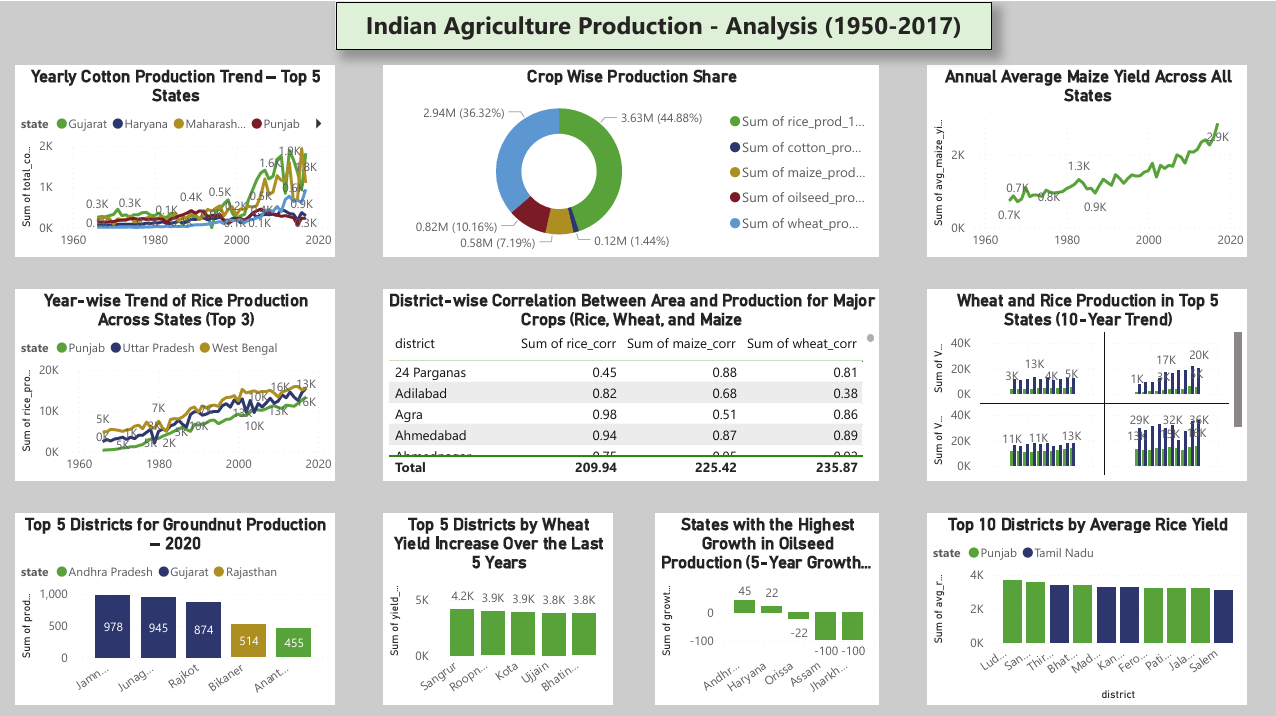

Layout of this report page (visuals, bound fields, positions):
{"tool":"powerbi","page":{"name":"Indian Agriculture Production - Analysis (1950-2017)","canvas":[1280,720],"ordinal":2},"visuals":[{"type":"lineChart","title":"Year-wise Trend of Rice Production Across States (Top 3)","fields":{"Category":["crop_production.year"],"Y":["Sum(crop_production.rice_prod_1000t)"],"Series":["crop_production.state"]},"box":[16,288,320,192],"z":0},{"type":"clusteredColumnChart","title":"Top 5 Districts by Wheat Yield Increase Over the Last 5 Years","fields":{"Category":["Query1.district"],"Y":["Sum(Query1.yield_increase)"]},"box":[384,512,230,192],"z":1000},{"type":"clusteredColumnChart","title":"States with the Highest Growth in Oilseed Production (5-Year Growth Rate)","fields":{"Category":["Query2.state"],"Y":["Sum(Query2.growth_percent)"]},"box":[656,512,224,192],"z":2000},{"type":"tableEx","title":"District-wise Correlation Between Area and Production for Major Crops (Rice, Wheat, and Maize","fields":{"Values":["Query3.district","Sum(Query3.rice_corr)","Sum(Query3.maize_corr)","Sum(Query3.wheat_corr)"]},"box":[384,288,496,192],"z":3000},{"type":"lineChart","title":"Yearly Cotton Production Trend – Top 5 States","fields":{"Category":["Query4.year"],"Y":["Sum(Query4.total_cotton_prod)"],"Series":["Query4.state"]},"box":[16,64,320,192],"z":4000},{"type":"columnChart","title":"Top 5 Districts for Groundnut Production – 2020","fields":{"Category":["Query5.district"],"Y":["Sum(Query5.production_2017)"],"Series":["Query5.state"]},"box":[16,512,320,192],"z":5000},{"type":"lineChart","title":"Annual Average Maize Yield Across All States","fields":{"Category":["Query6.year"],"Y":["Sum(Query6.avg_maize_yield)"]},"box":[928,64,320,192],"z":6000},{"type":"columnChart","title":"Top 10 Districts by Average Rice Yield","fields":{"Y":["Sum(Query7.avg_rice_yield)"],"Category":["Query7.district"],"Series":["Query7.state"]},"box":[928,512,320,192],"z":7000},{"type":"clusteredColumnChart","title":"Wheat and Rice Production in Top 5 States (10-Year Trend)","fields":{"Category":["Query8.year"],"Y":["Sum(Query8.Value)"],"Series":["Query8.Attribute"],"Rows":["Query8.state"]},"box":[928,288,320,192],"z":8000},{"type":"textbox","box":[336,0,656,48],"z":9000},{"type":"donutChart","title":"Crop Wise Production Share","fields":{"Y":["Sum(crop_production.rice_prod_1000t)","Sum(crop_production.cotton_prod_1000t)","Sum(crop_production.maize_prod_1000t)","Sum(crop_production.oilseed_prod_1000t)","Sum(crop_production.wheat_prod_1000t)"]},"box":[384,64,496,192],"z":10000}]}

Visuals, with their boxes in screenshot pixels (x1, y1, x2, y2), scaled from the page's 1280x720 canvas onto the 1276x716 screenshot:
"Year-wise Trend of Rice Production Across States (Top 3)" lineChart: <region>16, 286, 335, 477</region>
"Top 5 Districts by Wheat Yield Increase Over the Last 5 Years" clusteredColumnChart: <region>383, 509, 612, 700</region>
"States with the Highest Growth in Oilseed Production (5-Year Growth Rate)" clusteredColumnChart: <region>654, 509, 877, 700</region>
"District-wise Correlation Between Area and Production for Major Crops (Rice, Wheat, and Maize" tableEx: <region>383, 286, 877, 477</region>
"Yearly Cotton Production Trend – Top 5 States" lineChart: <region>16, 64, 335, 255</region>
"Top 5 Districts for Groundnut Production – 2020" columnChart: <region>16, 509, 335, 700</region>
"Annual Average Maize Yield Across All States" lineChart: <region>925, 64, 1244, 255</region>
"Top 10 Districts by Average Rice Yield" columnChart: <region>925, 509, 1244, 700</region>
"Wheat and Rice Production in Top 5 States (10-Year Trend)" clusteredColumnChart: <region>925, 286, 1244, 477</region>
textbox: <region>335, 0, 989, 48</region>
"Crop Wise Production Share" donutChart: <region>383, 64, 877, 255</region>
